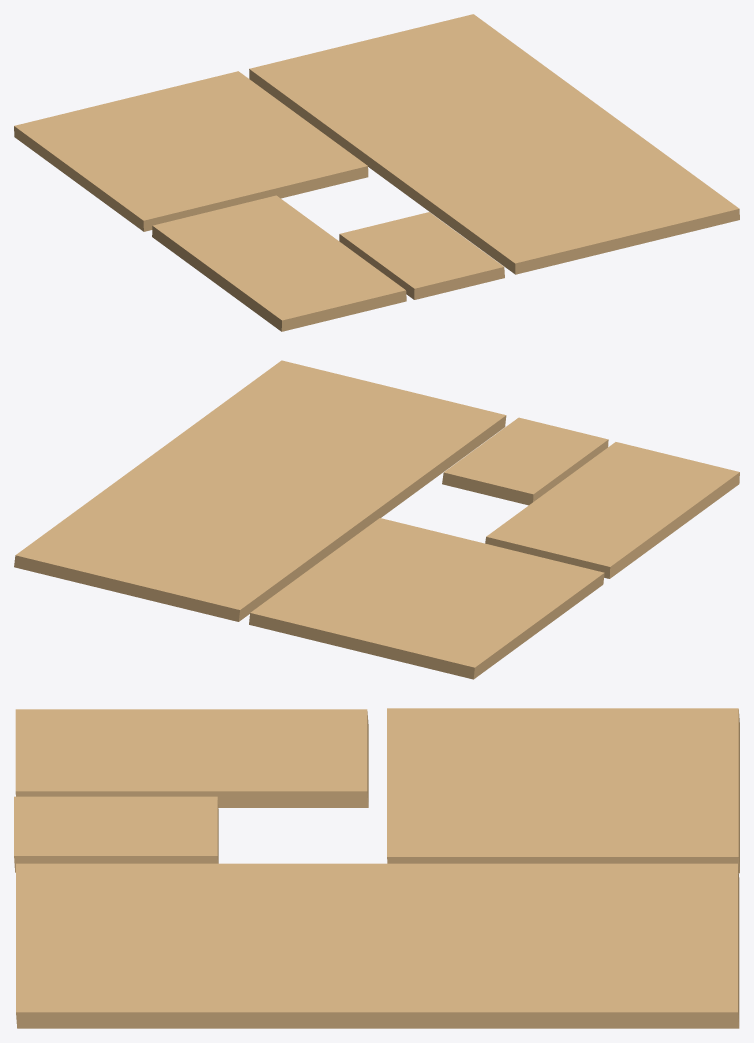
The model's file is dalle4.fbx.
The picture shows the model from 3 angles, top to bottom: view 1: azimuth 30°, elevation 25°; view 2: azimuth 150°, elevation 25°; view 3: azimuth 270°, elevation 25°; orthographic projection. The views are drawn at different scales.
Visible parts, largest first — view 1: Cube.002, Cube.001, Cube, Cube.003; view 2: Cube.002, Cube.001, Cube, Cube.003; view 3: Cube.002, Cube.001, Cube, Cube.003.
Boxes of the visible parts, x1=… form: Cube.002: x1=249, y1=14, x2=739, y2=274; Cube.001: x1=14, y1=71, x2=368, y2=231; Cube: x1=152, y1=195, x2=406, y2=331; Cube.003: x1=339, y1=212, x2=504, y2=299; Cube.002: x1=14, y1=360, x2=506, y2=621; Cube.001: x1=249, y1=518, x2=604, y2=679; Cube: x1=485, y1=442, x2=739, y2=578; Cube.003: x1=442, y1=417, x2=608, y2=505; Cube.002: x1=16, y1=863, x2=739, y2=1028; Cube.001: x1=387, y1=708, x2=739, y2=873; Cube: x1=15, y1=709, x2=368, y2=807; Cube.003: x1=14, y1=796, x2=218, y2=872.
Size of the model in its own units: 193 by 4.7 by 194.
